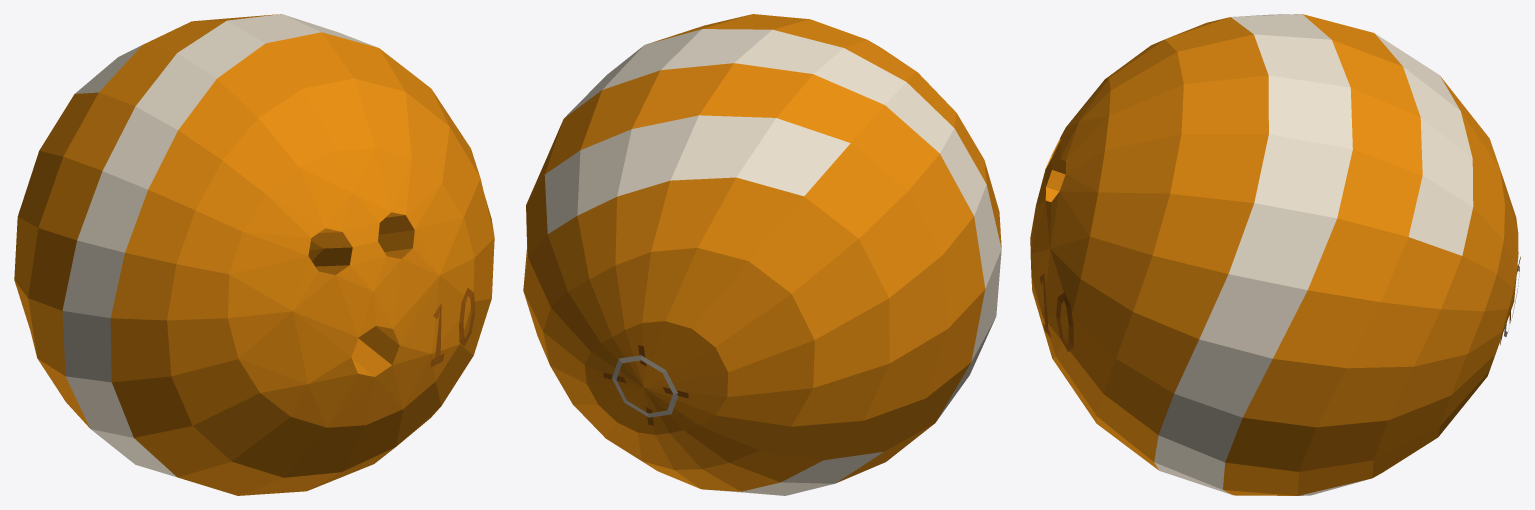
The model's file is cozy_bowling_ball_10lb.obj.
The picture shows the model from 3 angles, left to right: view 1: azimuth 30°, elevation 25°; view 2: azimuth 150°, elevation 25°; view 3: azimuth 270°, elevation 25°; orthographic projection.
Visible parts, largest first — view 1: Ball_10lb_Mesh; view 2: Ball_10lb_Mesh; view 3: Ball_10lb_Mesh.
Boxes of the visible parts, x1=… form: Ball_10lb_Mesh: x1=14, y1=14, x2=494, y2=495; Ball_10lb_Mesh: x1=523, y1=14, x2=1001, y2=495; Ball_10lb_Mesh: x1=1030, y1=14, x2=1520, y2=495.
Size of the model in its own units: 0.2161 by 0.2161 by 0.2171.
